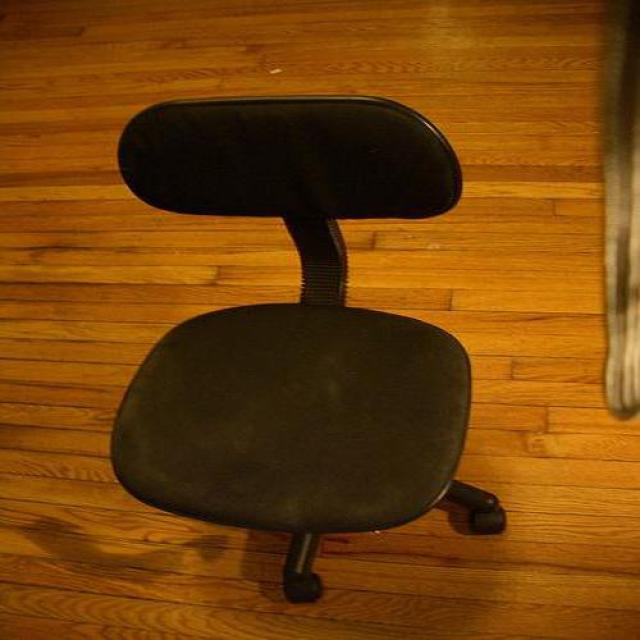swivelchair: (109, 97, 508, 605)
